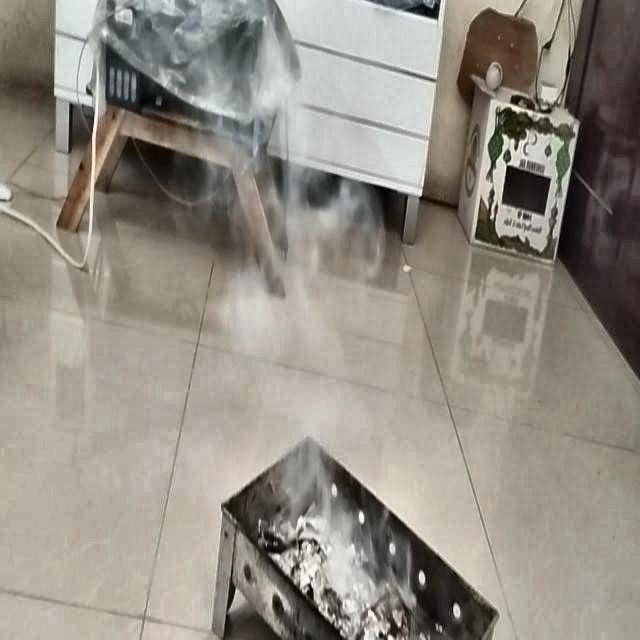smoke: (266, 117, 374, 620)
